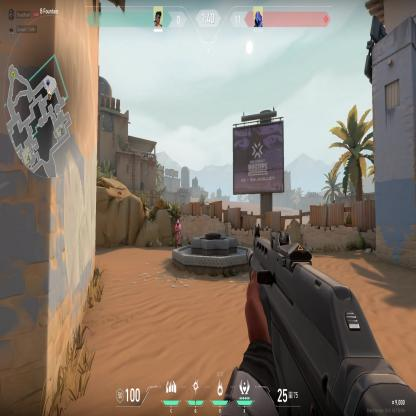enemy: (174, 218, 183, 248)
